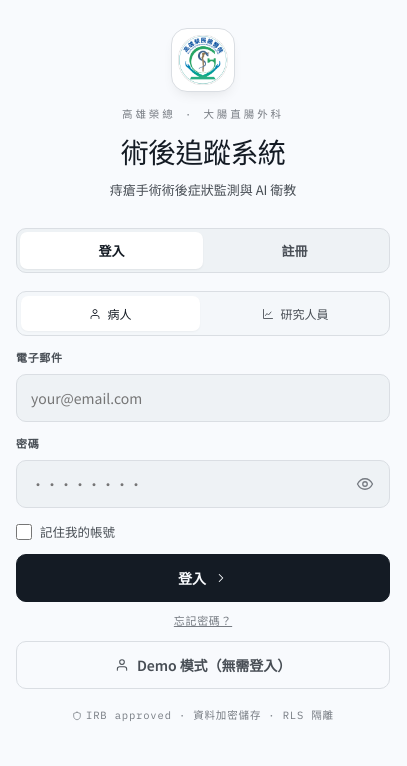
Test: Login Page › shows error when no surgeon selected
Click the button "註冊". click: (294, 251)
box: [203,232,386,269]
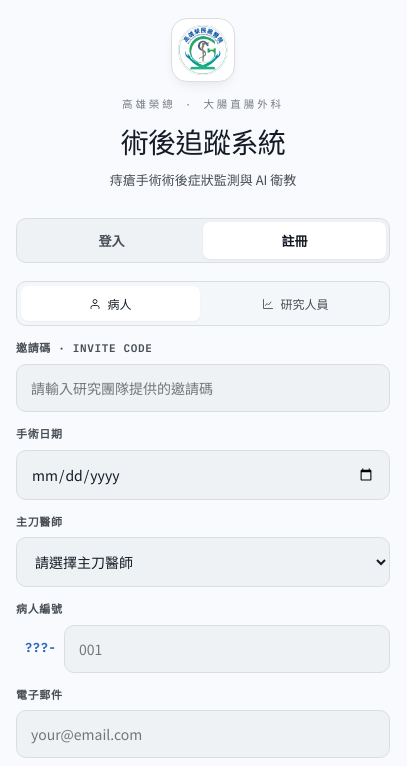
Type "ABC" into the field with placeholder "請輸入研究團隊提供的邀請碼". click: (203, 388)
box: [16,364,390,412]
Type "1" into the field with placeholder "001". click: (227, 649)
box: [64,625,390,673]
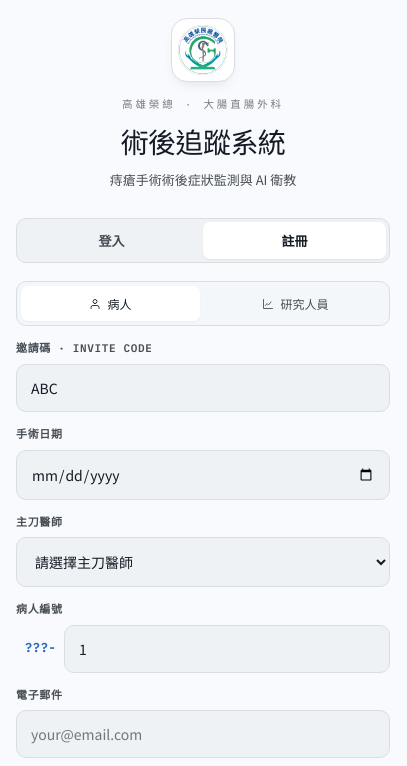
Type "test@test.com" into the field with placeholder "your@email.com". click: (203, 734)
box: [16,710,390,758]
(page scrolled)
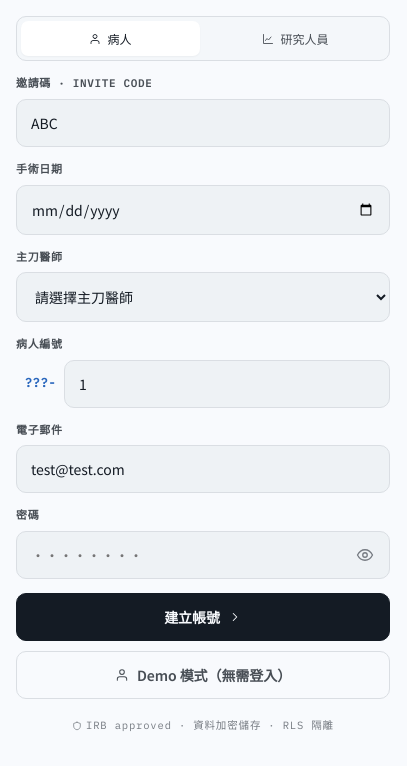
Type "pass123" into the password field with placeholder "••••••••". click: (203, 555)
box: [16,531,390,579]
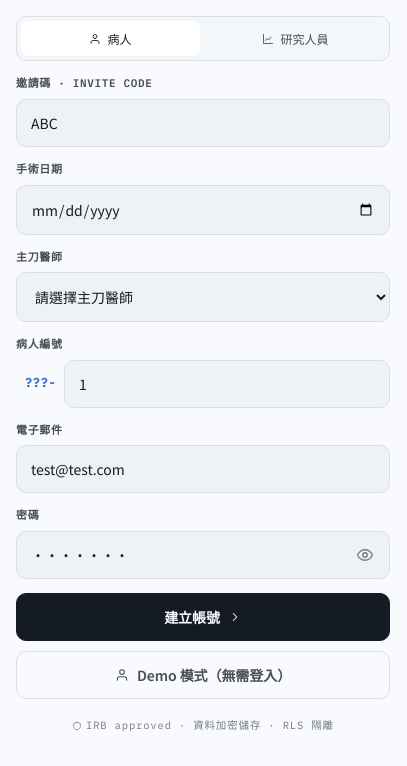
Type "2026-03-15" into the date field. click: (203, 210)
box: [16,185,390,235]
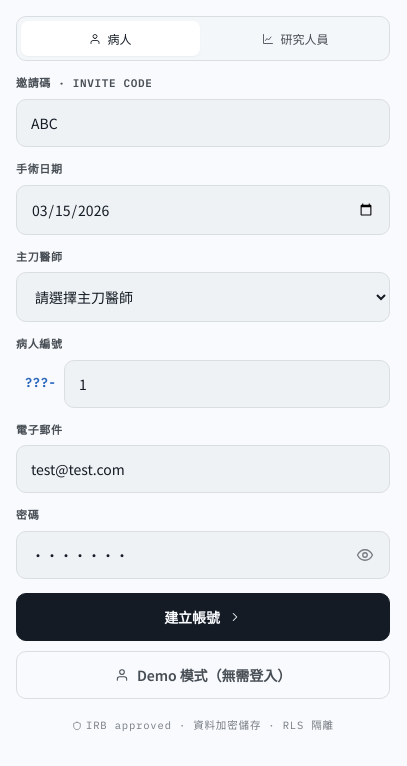
Submit the form from the submit button, box [16,593,390,641]
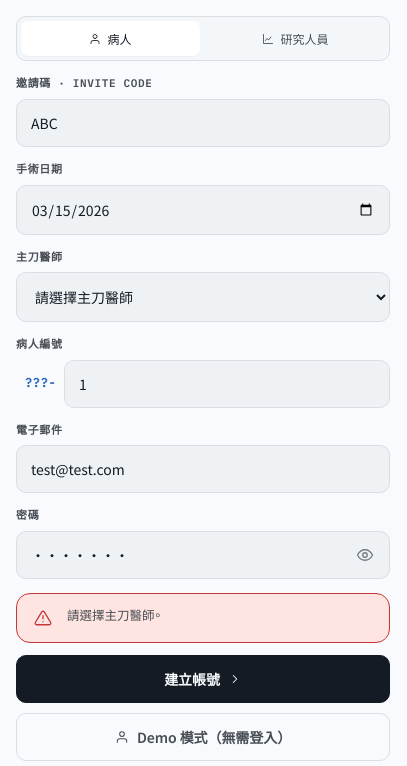
Expected: the text "請選擇主刀醫師。" is shown, [67,606,161,625]
